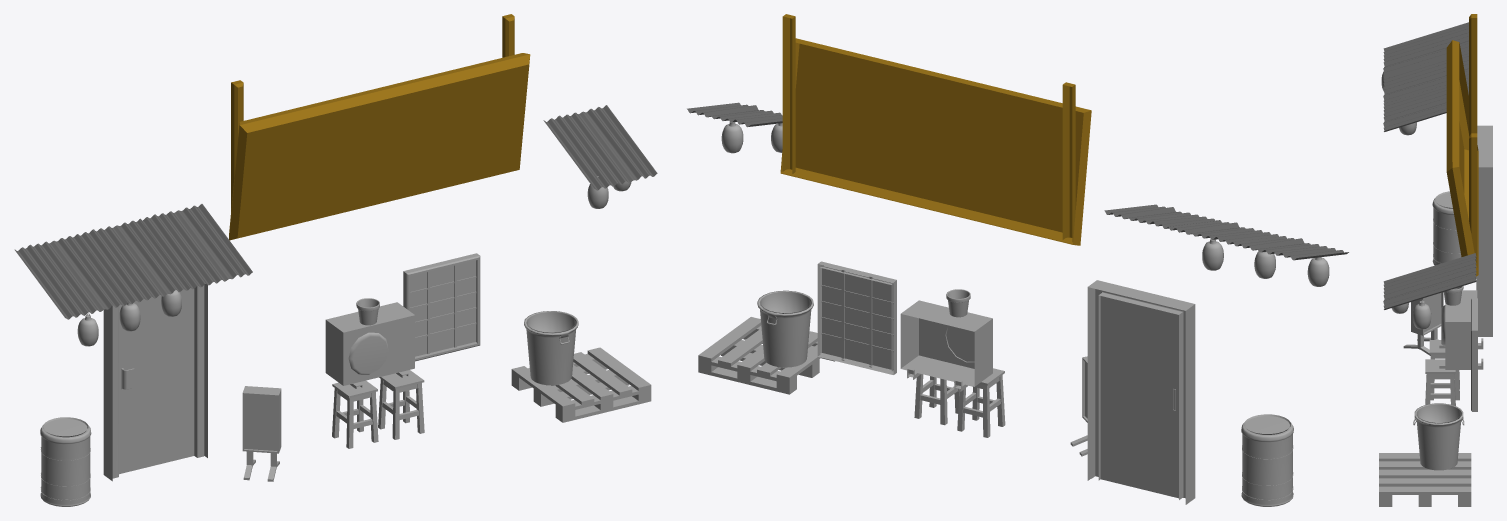
The model's file is Module_facade_1.fbx.
The picture shows the model from 3 angles, left to right: view 1: azimuth 30°, elevation 25°; view 2: azimuth 150°, elevation 25°; view 3: azimuth 270°, elevation 25°; orthographic projection. The views are drawn at different scales.
Visible parts, largest first — view 1: Module_facade_1; view 2: Module_facade_1; view 3: Module_facade_1.
Boxes of the visible parts, left/top/right/bottom form: Module_facade_1: left=14, top=14, right=657, bottom=506; Module_facade_1: left=687, top=14, right=1348, bottom=506; Module_facade_1: left=1379, top=14, right=1492, bottom=506.
Bounding box in the file's own units: 775 × 462 × 143.
